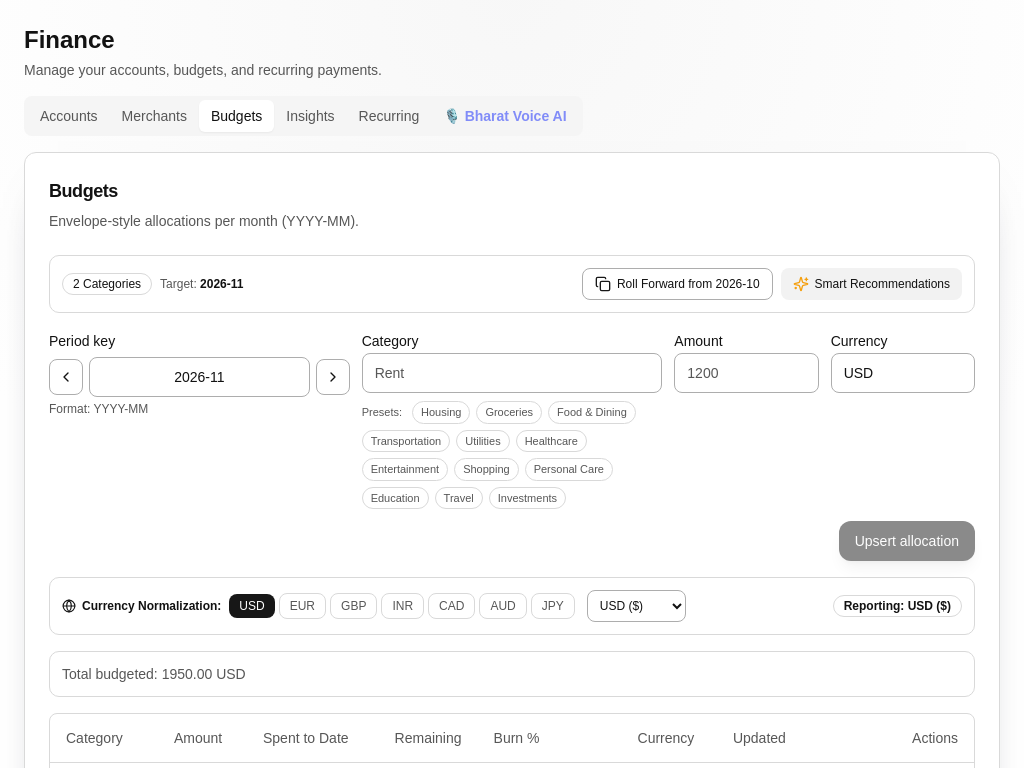
Test: FinanceOS › applies category presets on click and allows clearing the form
This screenshot has width=1024, height=768.
Click preset "Entertainment"
Click the button "Entertainment" at (405, 469), box [362,458,448,480]
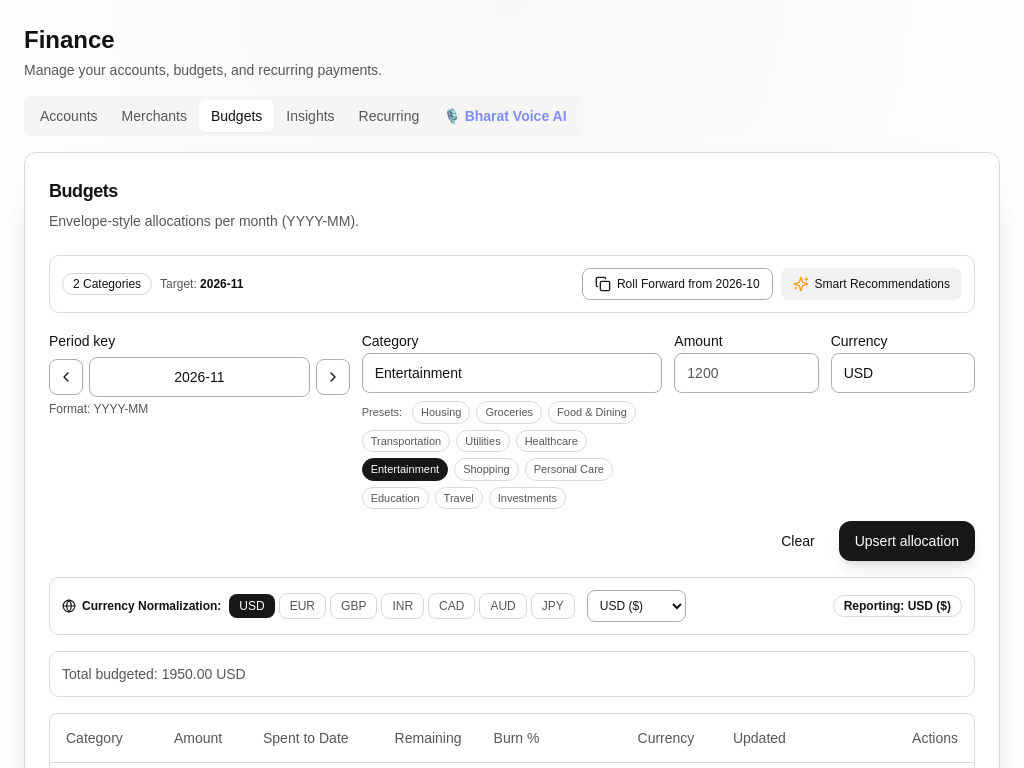
Now the field labelled "Category" holds "Entertainment", box [362,353,662,393]
Enter an amount
Type "150" into the field labelled "Amount" at (746, 373), box [674,353,819,393]
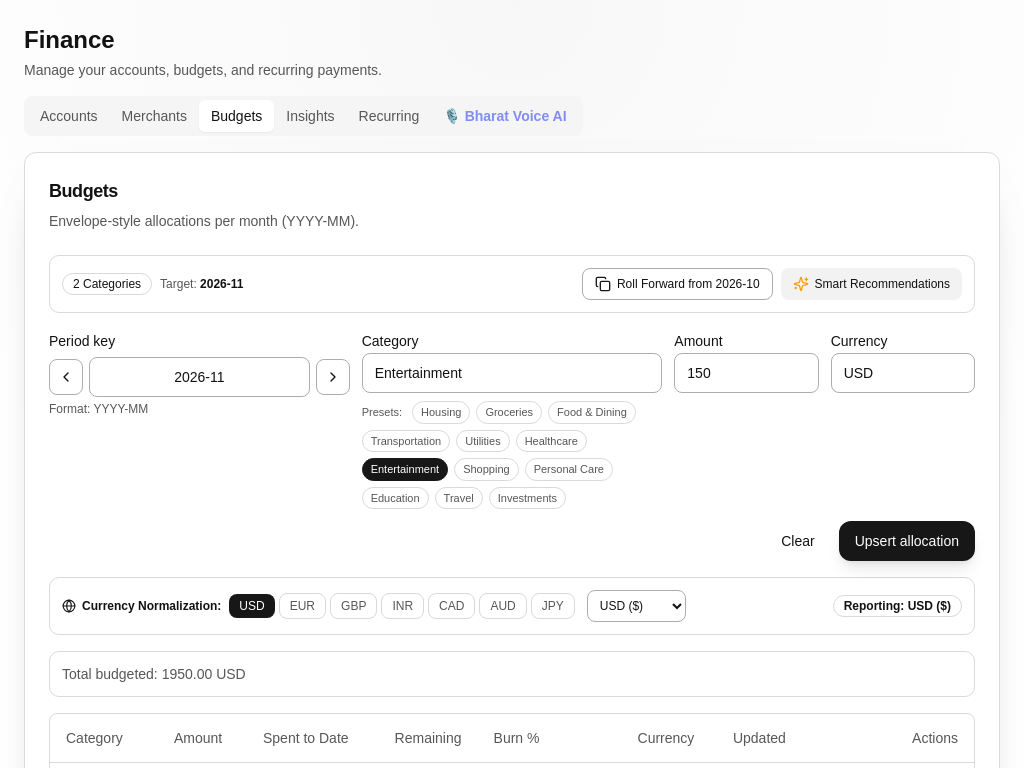
Clear button should appear
Click the button "Clear" at (798, 541), box [765,521,831,561]
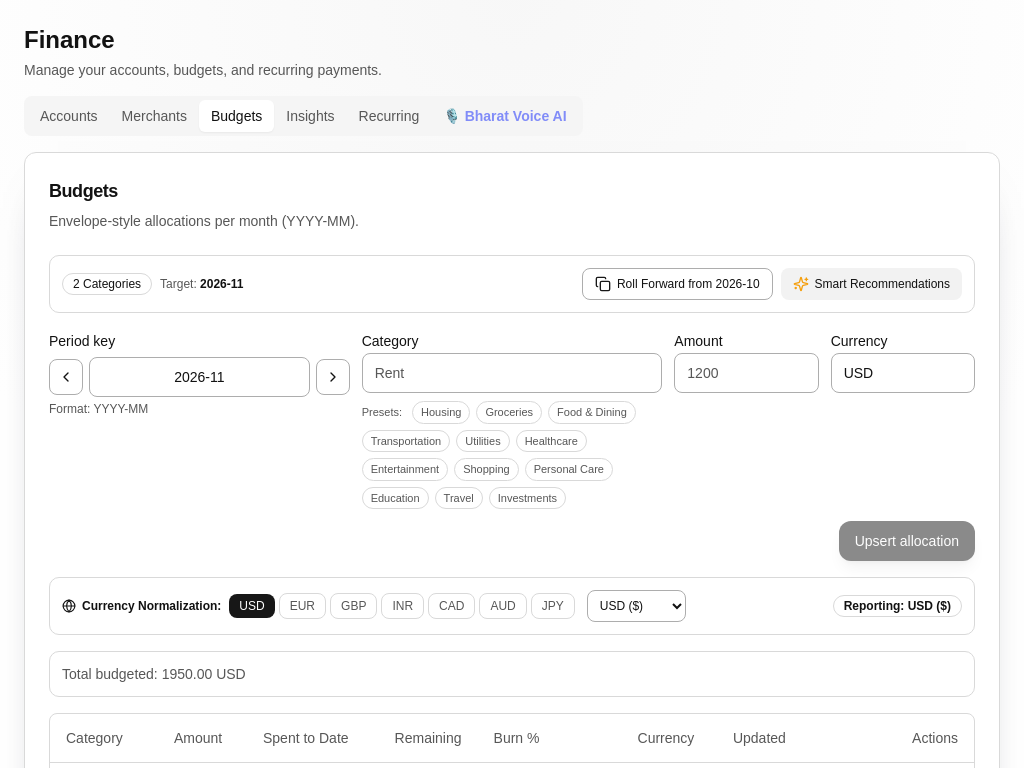
Now the field labelled "Category" is empty, box [362,353,662,393]
Now the field labelled "Amount" is empty, box [674,353,819,393]
